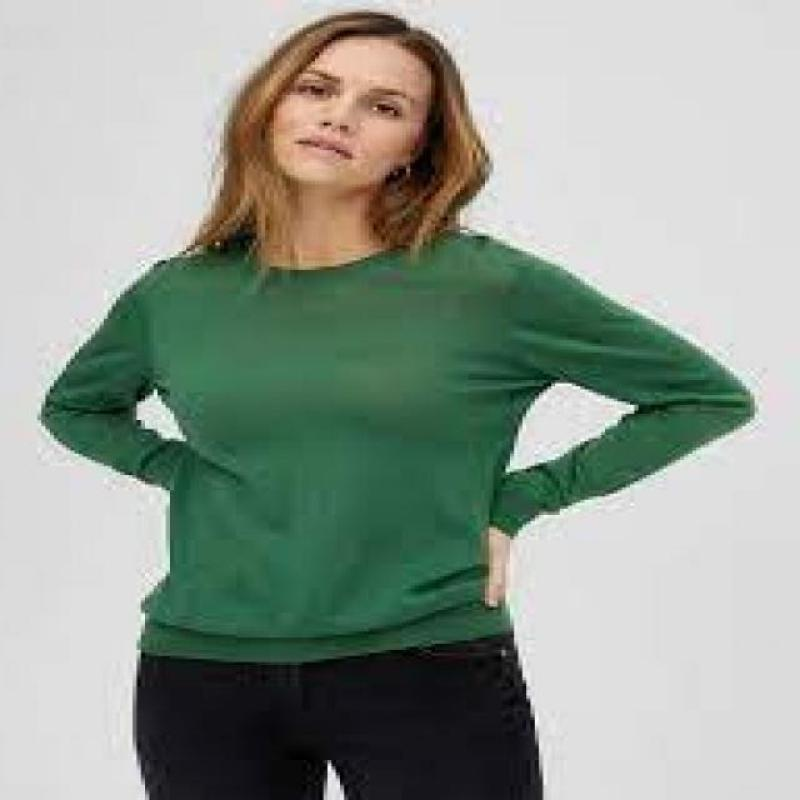sweater: (37, 219, 758, 660)
trousers: (129, 631, 545, 800)
